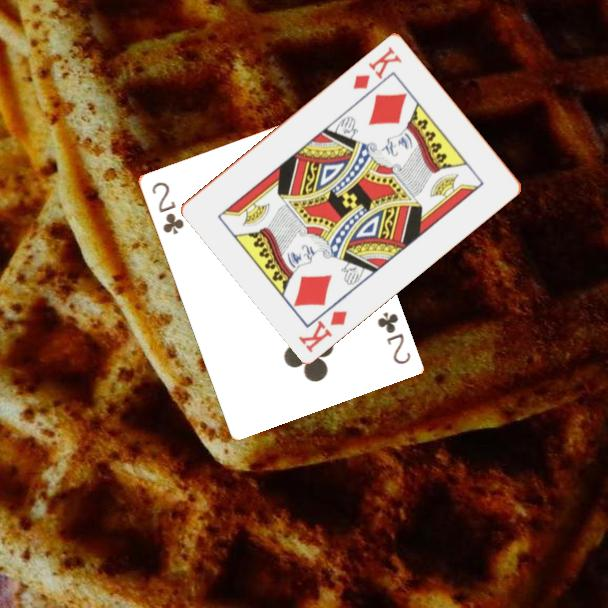c02: (373, 308, 413, 367), (148, 178, 186, 238)
d13: (349, 43, 405, 92), (295, 307, 350, 355)
